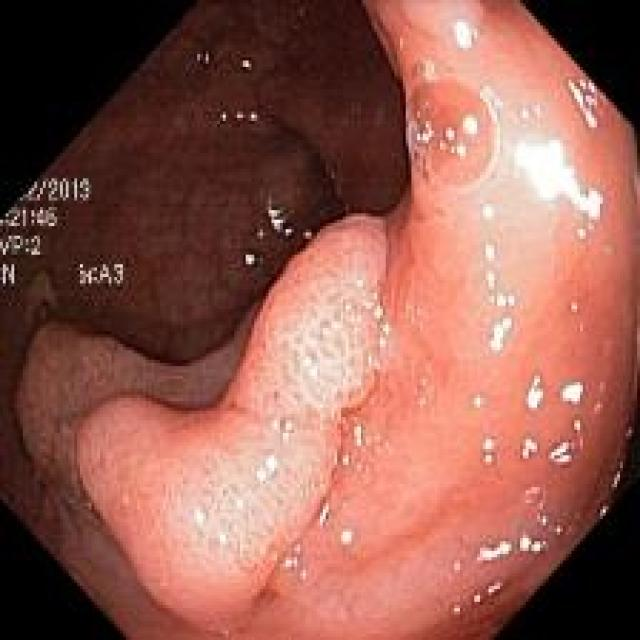Polyps: (76, 217, 386, 632)
